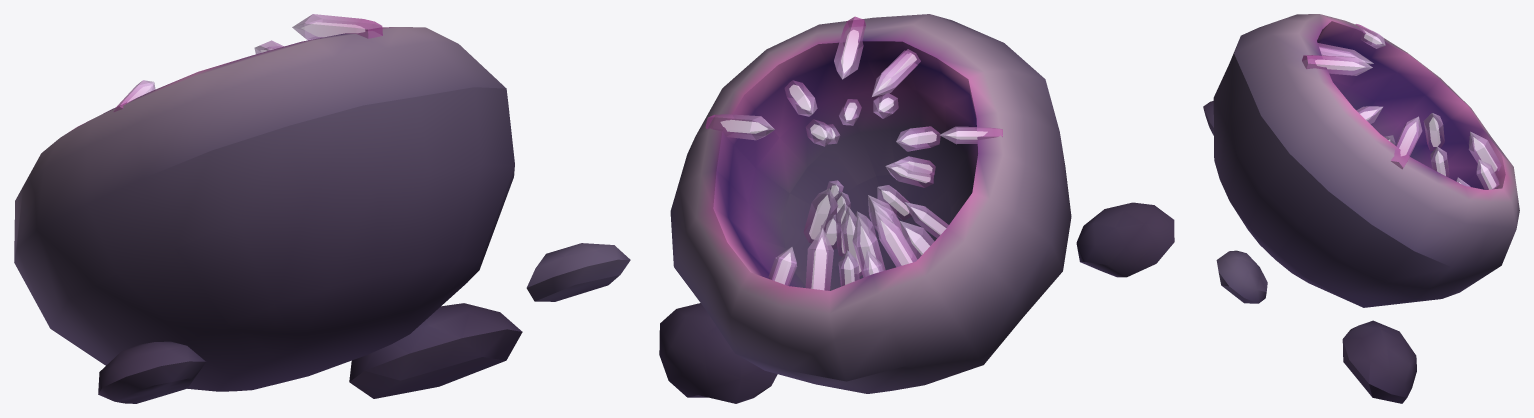
The model's file is hollow_misc_geode_a.glb.
The picture shows the model from 3 angles, left to right: view 1: azimuth 30°, elevation 25°; view 2: azimuth 150°, elevation 25°; view 3: azimuth 270°, elevation 25°; orthographic projection. The views are drawn at different scales.
Parts seen in each view (by area): view 1: hollow_misc_geode_a; view 2: hollow_misc_geode_a; view 3: hollow_misc_geode_a.
Part boxes in pixels (<box>): hollow_misc_geode_a: <box>14,14,630,403</box>; hollow_misc_geode_a: <box>659,14,1174,403</box>; hollow_misc_geode_a: <box>1203,14,1519,403</box>.
Size of the model in its own units: 3.69 by 2.98 by 2.81.
